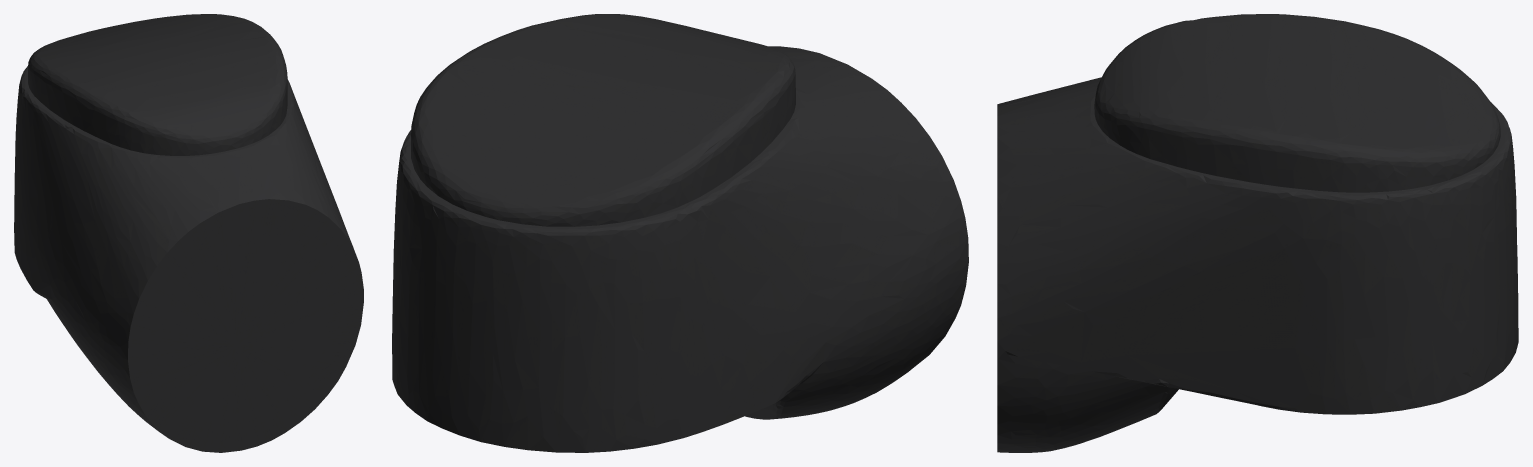
File: arm_3.dae
3 views of the same model, side by side, from view 1: azimuth 30°, elevation 25°; view 2: azimuth 150°, elevation 25°; view 3: azimuth 270°, elevation 25° (orthographic). The views are drawn at different scales.
Visible parts, largest first — view 1: node; view 2: node; view 3: node.
Part boxes in pixels (<box>): node: <box>14,14,363,452</box>; node: <box>392,14,968,452</box>; node: <box>997,14,1518,452</box>.
Bounding box in the file's own units: 0.138 × 0.1437 × 0.176.
Materials: 1 (1 with a texture image).
